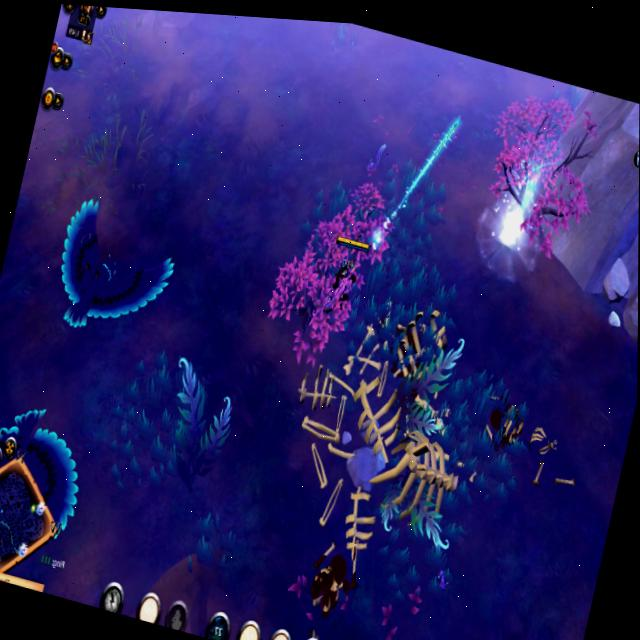red: (319, 216, 383, 313)
